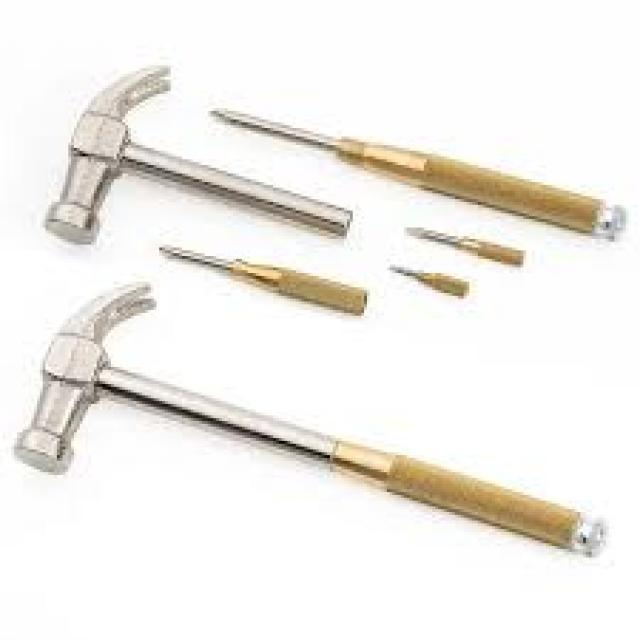hammer: (7, 274, 612, 565), (29, 56, 380, 255)
screwdriver: (202, 88, 640, 270), (150, 234, 384, 330), (394, 214, 538, 278), (388, 253, 478, 304)
